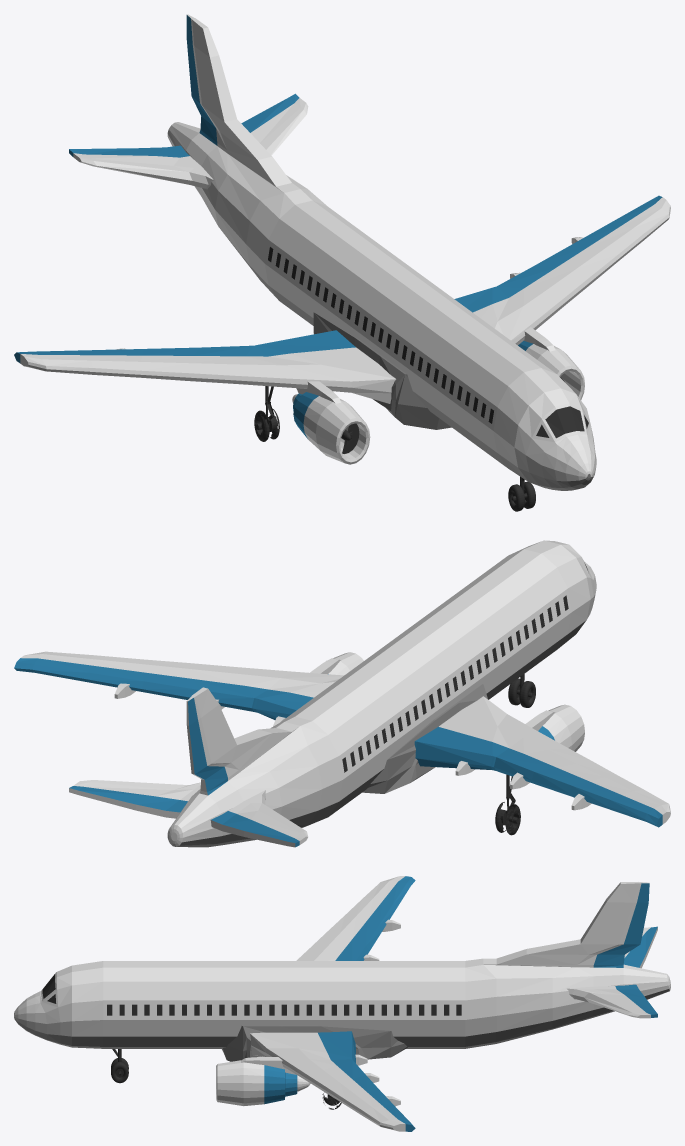
3 views of the same model, one above another, from view 1: azimuth 30°, elevation 25°; view 2: azimuth 150°, elevation 25°; view 3: azimuth 270°, elevation 25° (orthographic). The views are drawn at different scales.
Visible parts, largest first — view 1: Plane; view 2: Plane; view 3: Plane.
Part boxes in pixels (x1,y1,x2,y2): Plane: (14,14,670,511); Plane: (14,540,670,847); Plane: (14,876,670,1131).
Size of the model in its own units: 11.04 by 4.11 by 12.36.
1 material, 1 textured.
